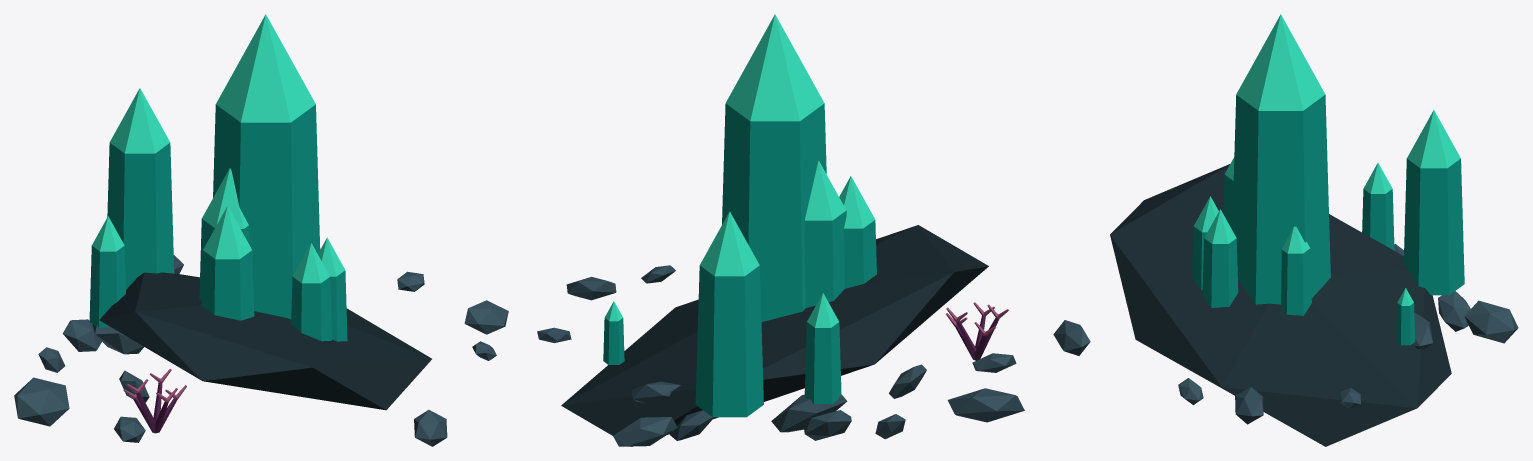
The model's file is 02_crystal_cluster.obj.
3 renders of one model, left to right at view 1: azimuth 30°, elevation 25°; view 2: azimuth 150°, elevation 25°; view 3: azimuth 270°, elevation 25°, orthographic. The views are drawn at different scales.
Parts seen in each view (by area): view 1: 02_crystal_cluster; view 2: 02_crystal_cluster; view 3: 02_crystal_cluster.
Part boxes in pixels (left/top/right/bottom): 02_crystal_cluster: left=14, top=14, right=508, bottom=446; 02_crystal_cluster: left=537, top=14, right=1024, bottom=446; 02_crystal_cluster: left=1053, top=14, right=1518, bottom=446.
Bounding box in the file's own units: 8.21 × 6.73 × 7.77.
1 material, 1 textured.
